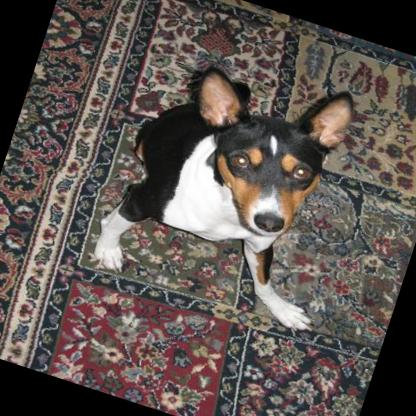basenji: (85, 30, 385, 334)
